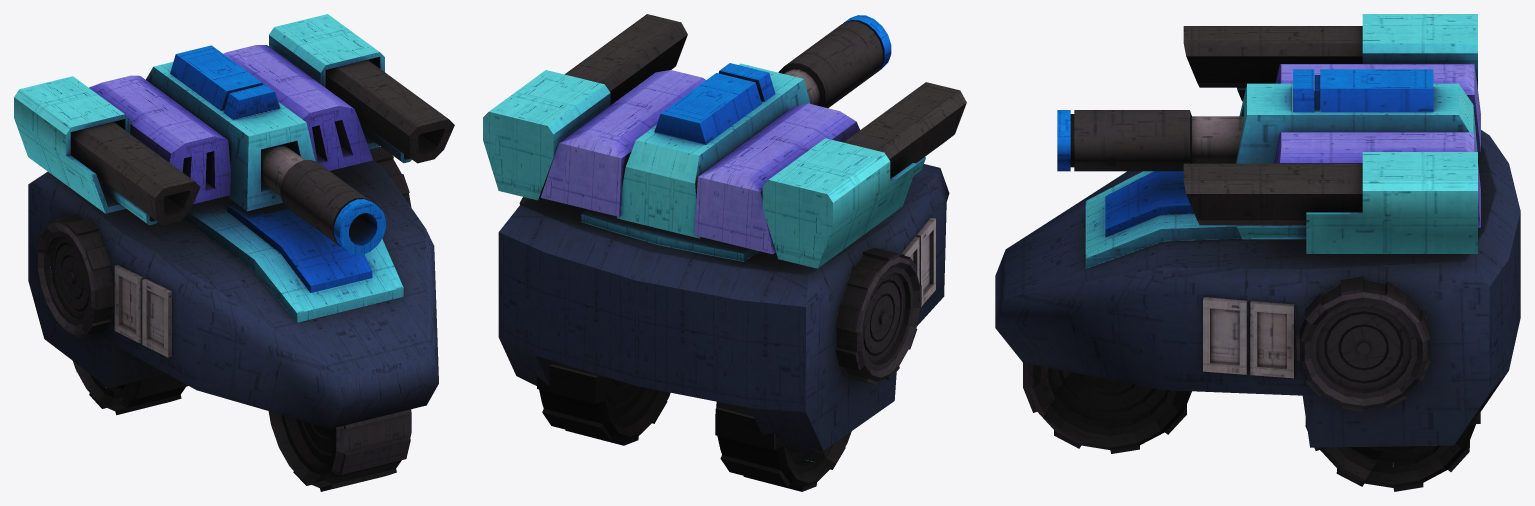
The model's file is PlayerA2.obj.
3 renders of one model, left to right at view 1: azimuth 30°, elevation 25°; view 2: azimuth 150°, elevation 25°; view 3: azimuth 270°, elevation 25°, orthographic. The views are drawn at different scales.
Parts seen in each view (by area): view 1: Object001, Object002, Object004, Object003; view 2: Object001, Object002, Object003; view 3: Object001, Object002, Object004, Object003.
Boxes of the visible parts, x1,y1,x2,y2 form: Object001: (28, 45, 438, 428); Object002: (14, 14, 454, 225); Object004: (268, 409, 411, 491); Object003: (73, 361, 188, 415); Object001: (498, 15, 949, 450); Object002: (483, 14, 966, 268); Object003: (537, 361, 851, 491); Object001: (995, 64, 1520, 447); Object002: (1183, 14, 1477, 253); Object004: (1023, 362, 1191, 453); Object003: (1305, 411, 1480, 491).
Size of the model in its own units: 93.13 by 89.28 by 119.
Materials: 1 (1 with a texture image).
